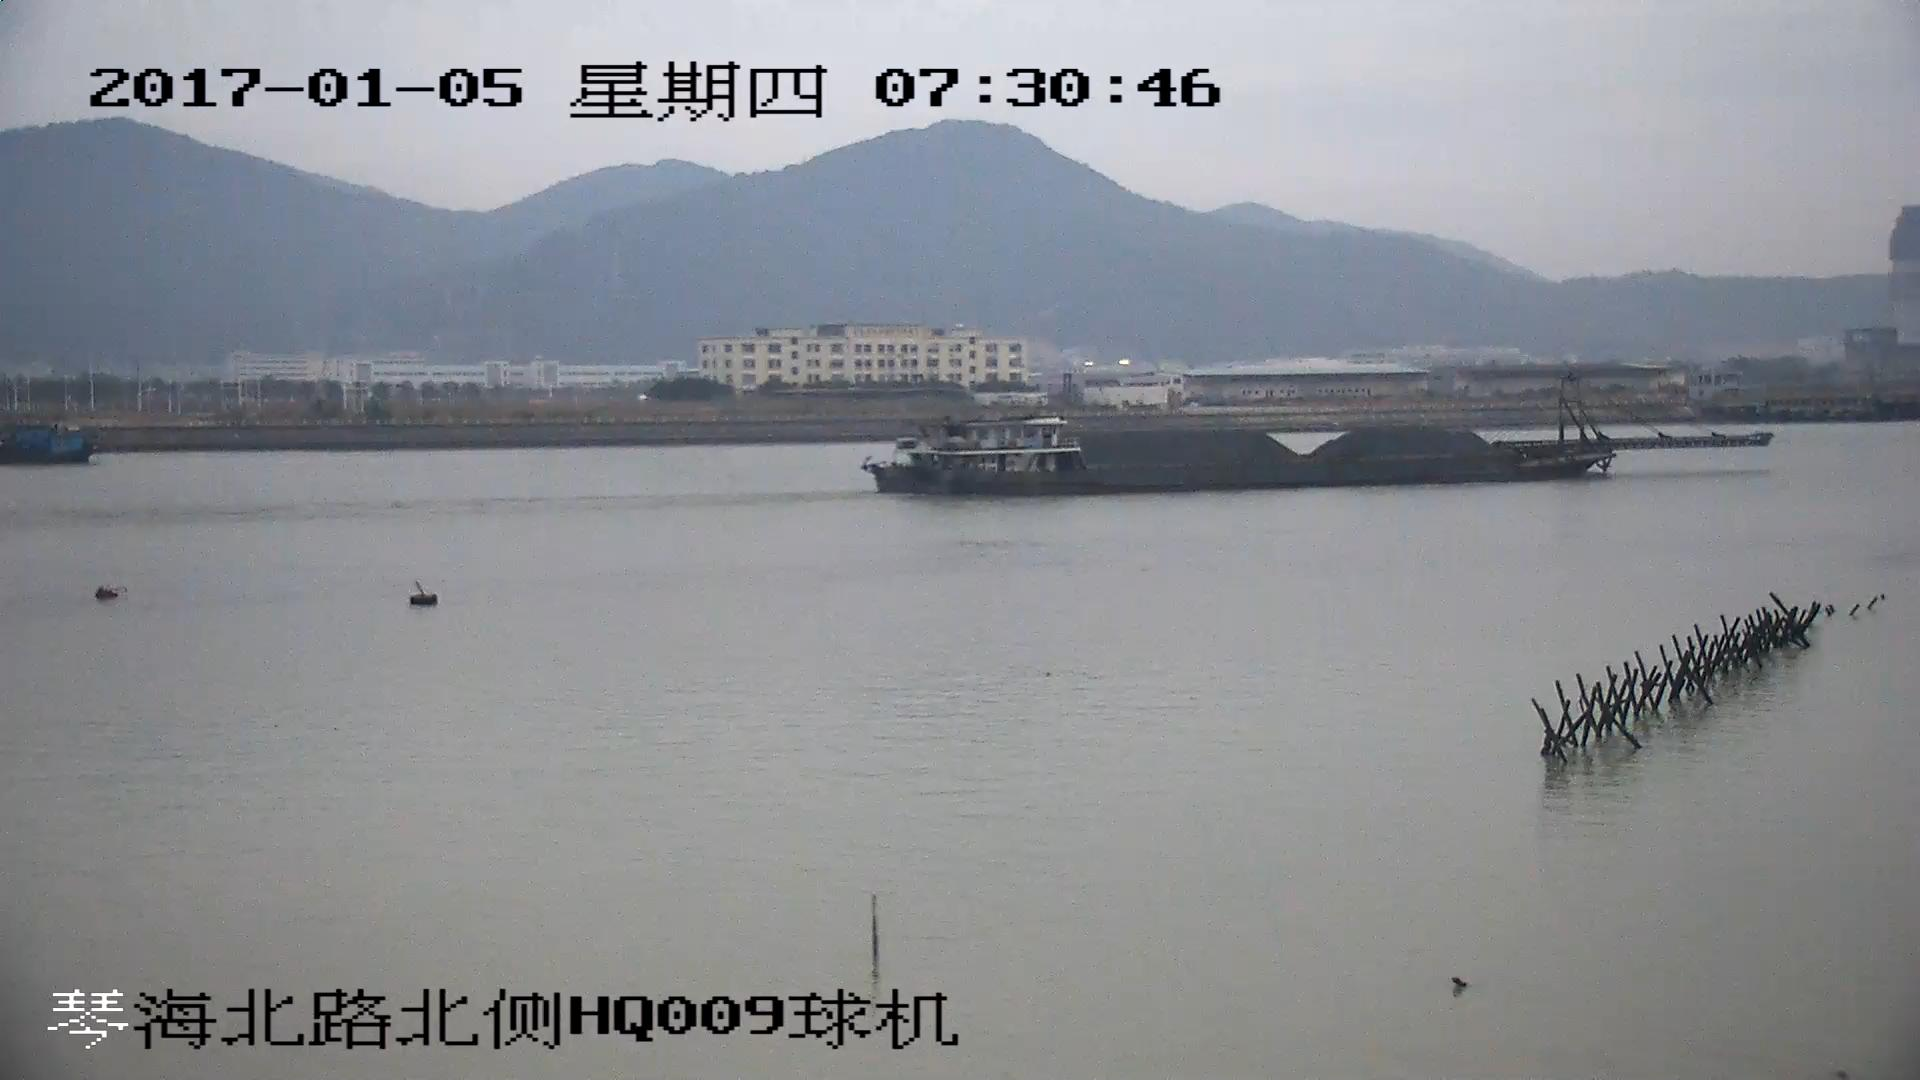ore carrier: (867, 370, 1775, 497)
